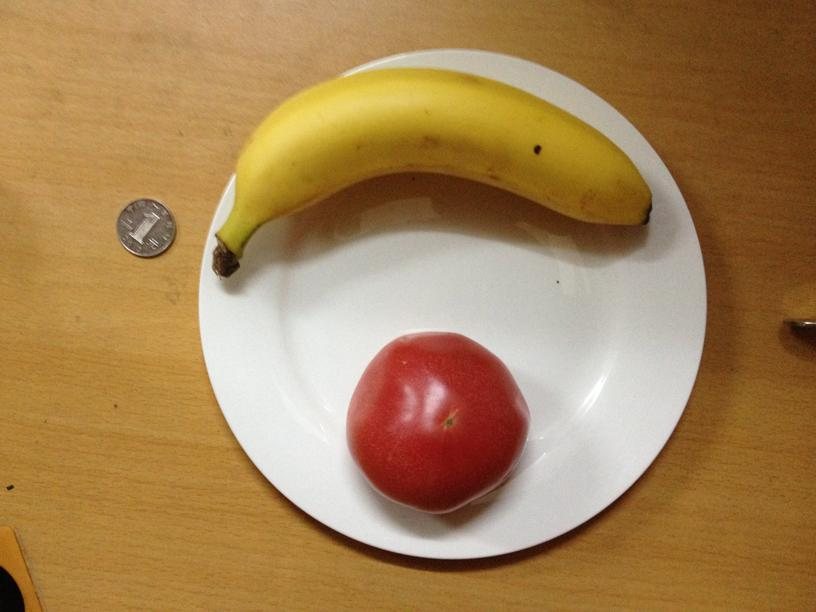banana: (217, 70, 653, 251)
coin: (116, 200, 176, 257)
tomato: (347, 334, 529, 508)
